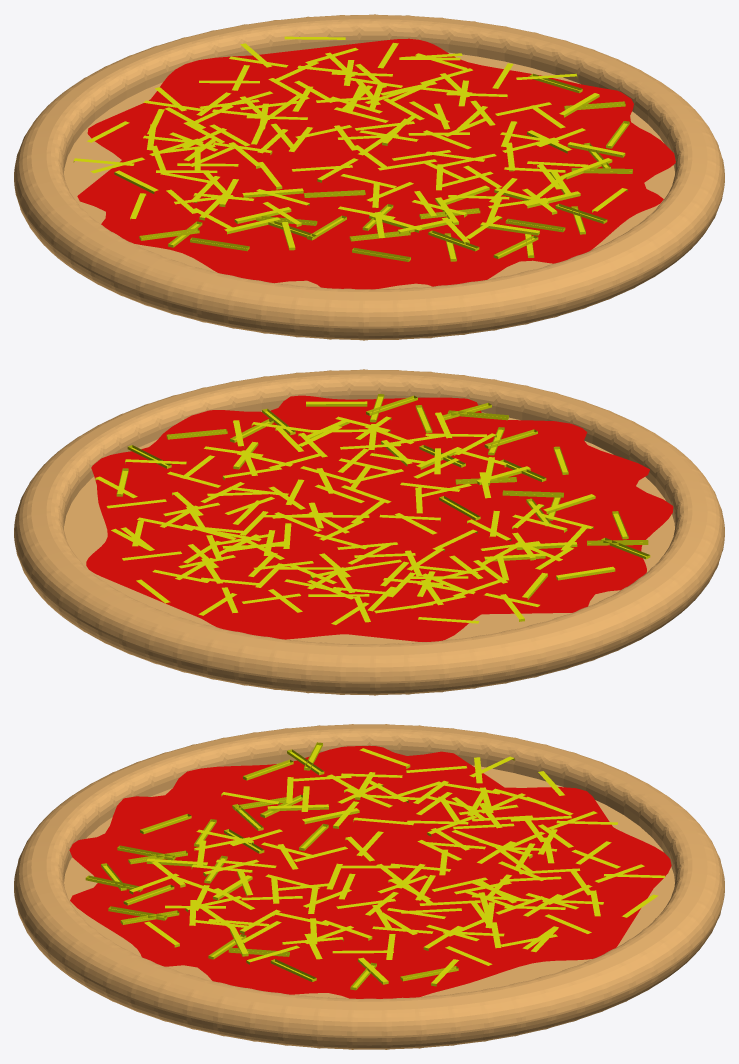
Rendered from andCheese.fbx.
3 views of the same model, one above another, from view 1: azimuth 30°, elevation 25°; view 2: azimuth 150°, elevation 25°; view 3: azimuth 270°, elevation 25° (orthographic).
Parts seen in each view (by area): view 1: PizzaWithPizzacreamAndCheese; view 2: PizzaWithPizzacreamAndCheese; view 3: PizzaWithPizzacreamAndCheese.
Boxes of the visible parts, box(x1,y1,x2,y2) form: PizzaWithPizzacreamAndCheese: box(14, 14, 724, 340); PizzaWithPizzacreamAndCheese: box(14, 369, 724, 695); PizzaWithPizzacreamAndCheese: box(14, 724, 724, 1049).
Bounding box in the file's own units: 232 × 17.89 × 232.
